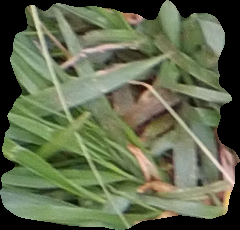grass: (1, 1, 239, 228)
